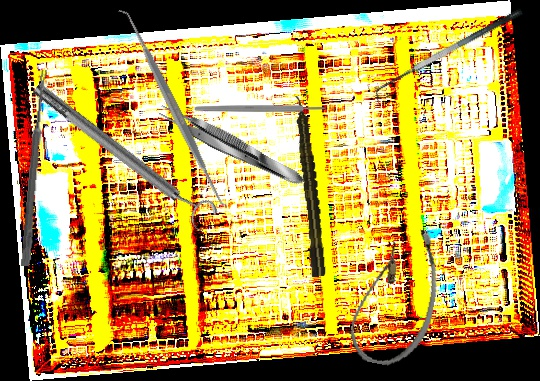Cannula: (345, 219, 448, 373)
Fixation Ring: (26, 73, 221, 235)
Handpiece: (291, 94, 328, 278)
Scalpel Handle: (194, 105, 327, 112)
Spatula Surgical: (113, 2, 233, 213), (368, 6, 530, 105)
Surgical Spoon: (20, 69, 49, 267)
Tissue Forceps: (153, 99, 310, 193)
